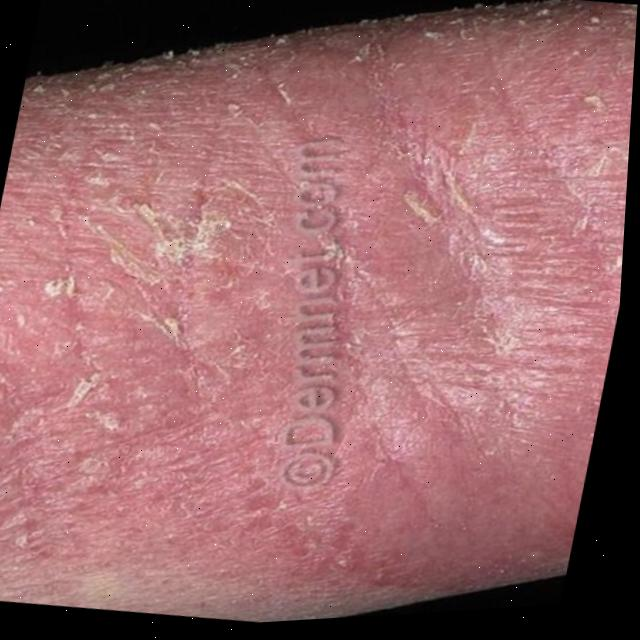Eczema: (0, 18, 633, 598)
